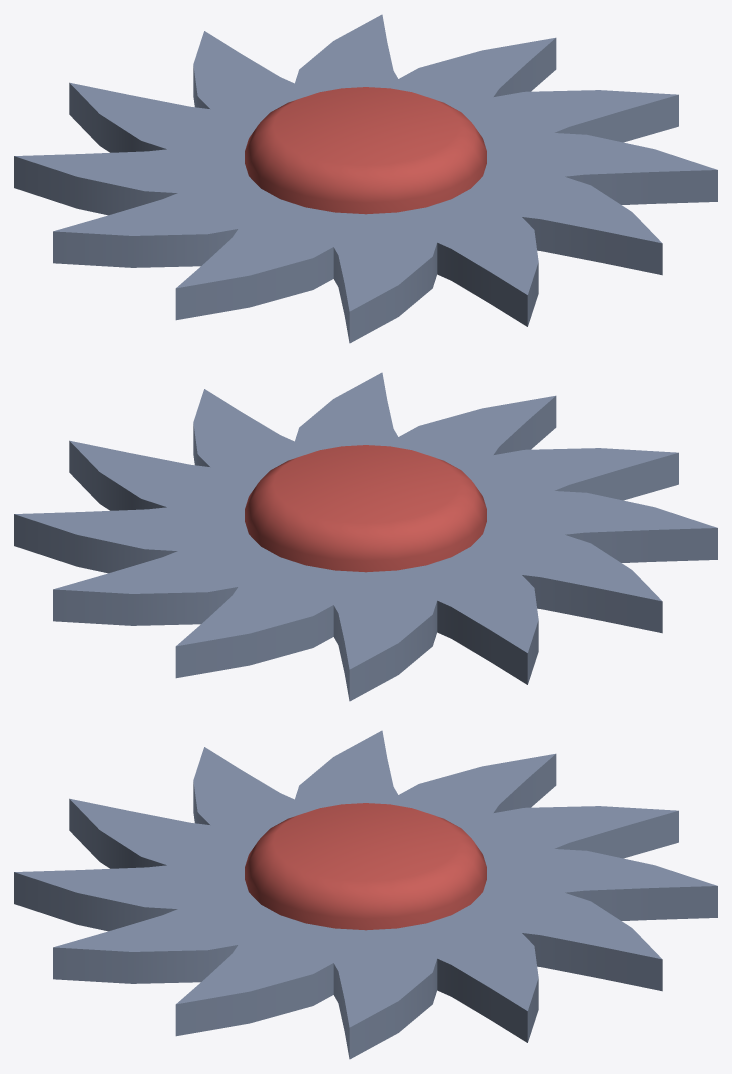
The model's file is Obstacle3.fbx.
3 renders of one model, top to bottom at view 1: azimuth 30°, elevation 25°; view 2: azimuth 150°, elevation 25°; view 3: azimuth 270°, elevation 25°, orthographic.
Parts seen in each view (by area): view 1: pPlane13, Obstacle3; view 2: pPlane13, Obstacle3; view 3: pPlane13, Obstacle3.
Part boxes in pixels (x1,y1,x2,y2): pPlane13: (14,14,717,343); Obstacle3: (245,87,486,214); pPlane13: (14,372,717,701); Obstacle3: (245,445,486,572); pPlane13: (14,730,717,1059); Obstacle3: (245,803,486,930).
Bounding box in the file's own units: 19.11 × 2.33 × 19.11.
